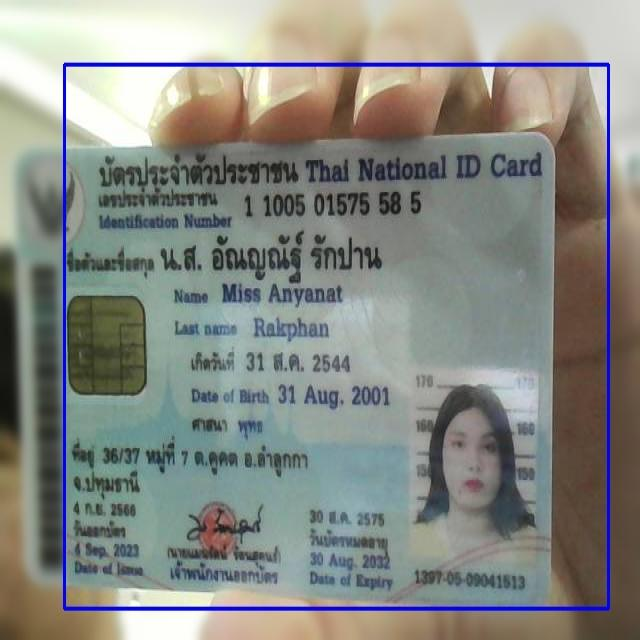Address_th: (68, 430, 314, 504)
Date_of_Birth: (275, 376, 394, 414)
Date_of_Expiry: (307, 548, 392, 576)
Date_of_Issue: (70, 538, 145, 562)
First_Name: (219, 278, 345, 310)
ID_Number: (240, 188, 428, 222)
Image: (414, 366, 536, 567)
Last_Name: (250, 312, 332, 347)
Thai_Name: (153, 228, 394, 284)
